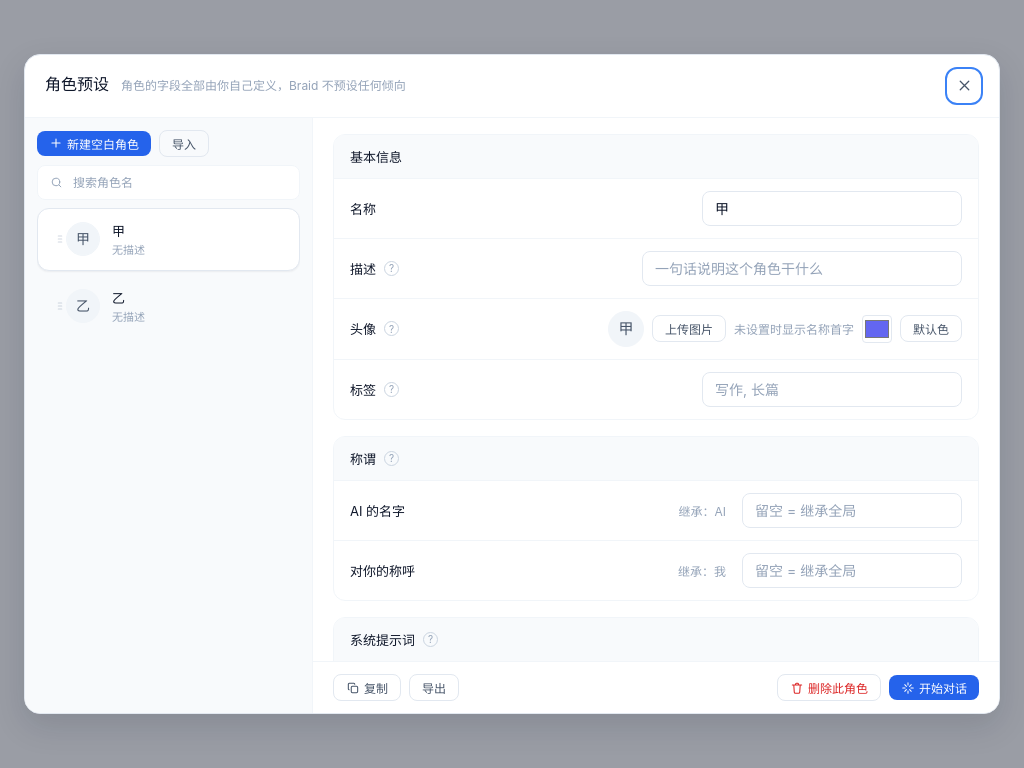
Test: 角色面板：未保存的草稿 › 切换角色之前先问一句，选择放弃才真的切
改一下名字，制造"未保存"的状态
Replace the text in the field showing "甲" with "甲（改）". click: [832, 208]
box: [702,191,962,226]
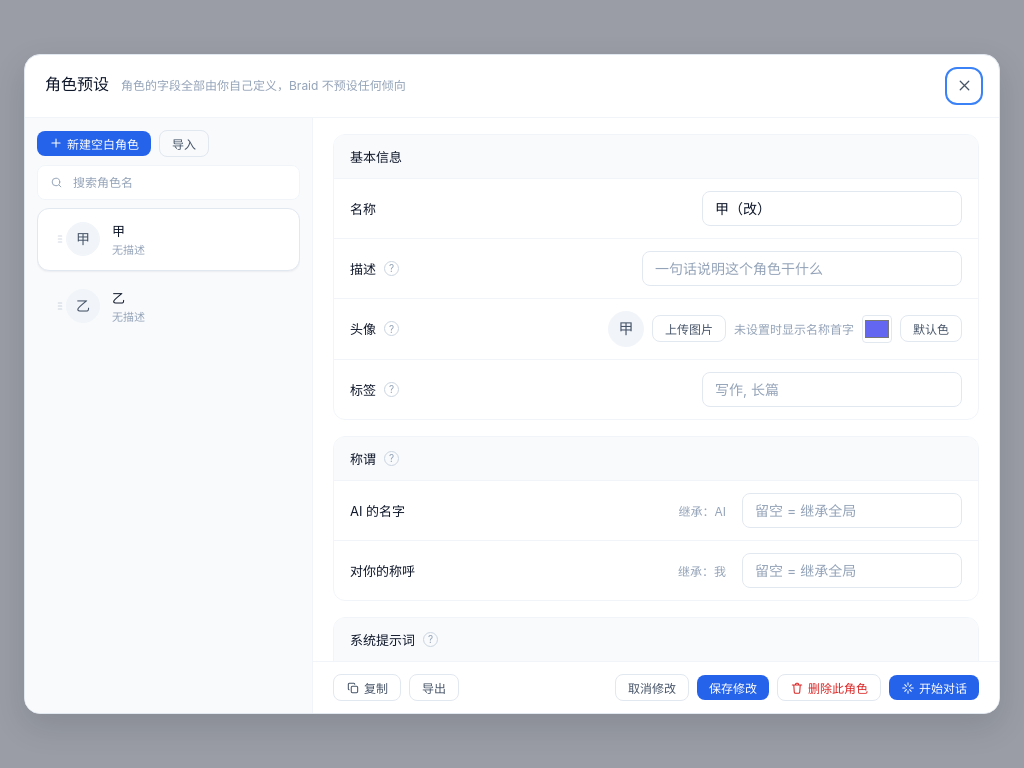
Click the button "乙 乙 无描述". click: [83, 306]
box: [37,275,300,337]
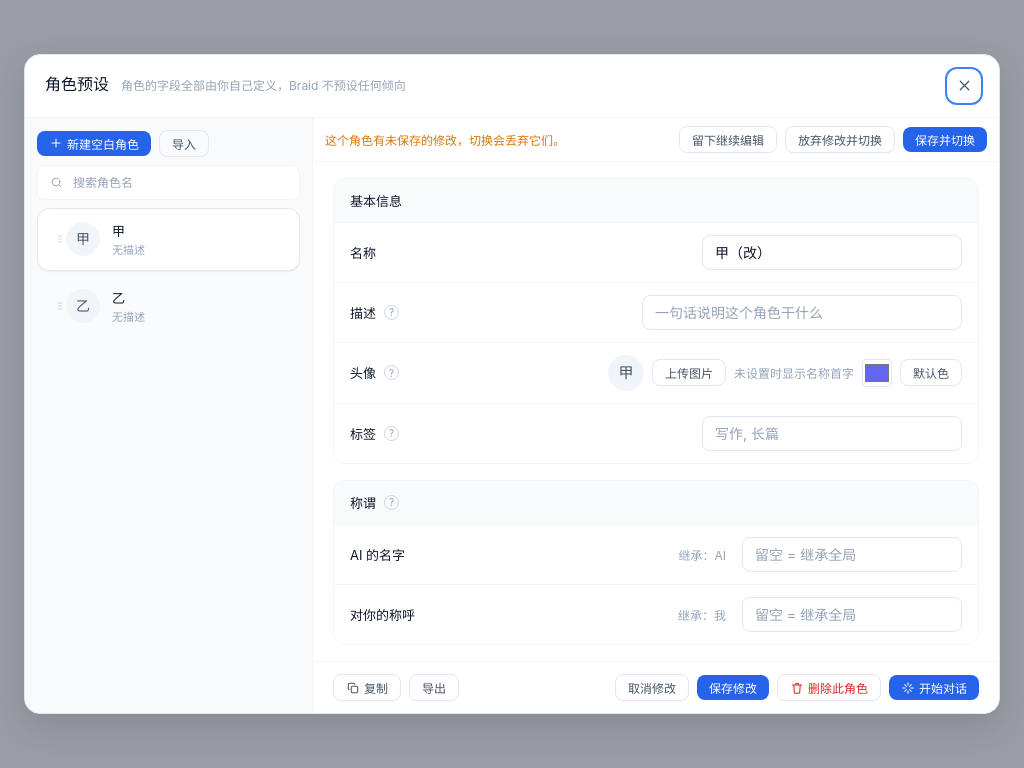
Result: the text "这个角色有未保存的修改，切换会丢弃它们。" is shown at [325,131,565,148]
明确选择"放弃修改并切换"，这才切过去
Click the button "放弃修改并切换". click: [840, 139]
box: [785,126,895,153]
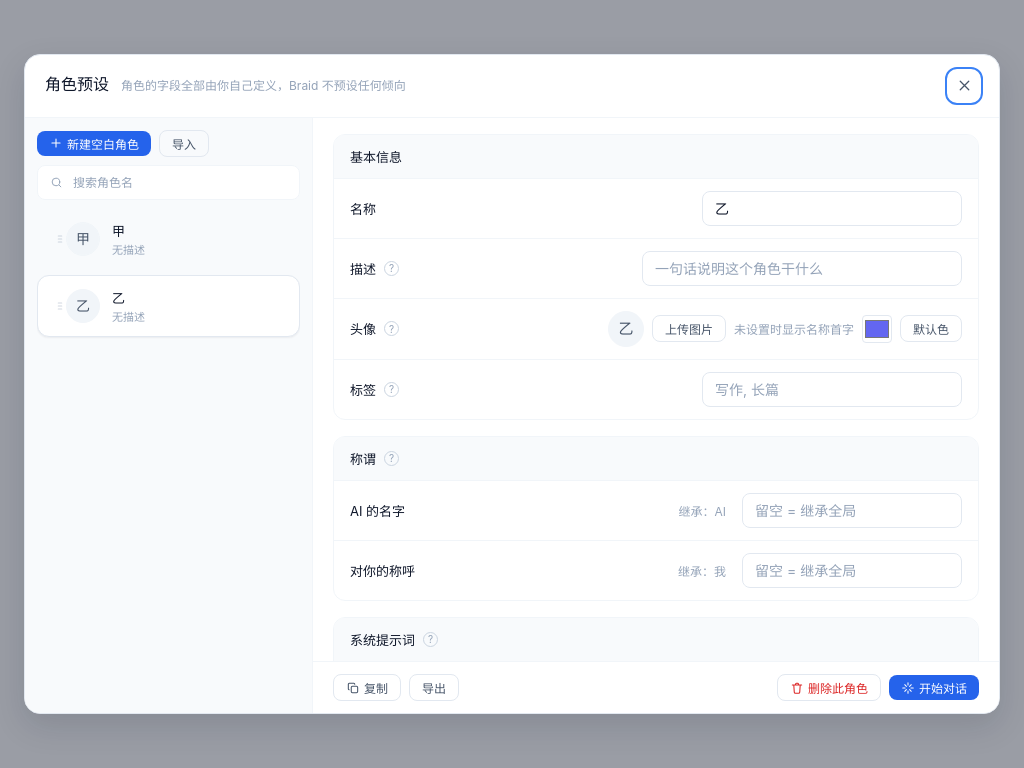
Result: the text "有未保存的修改" is gone
Result: the field showing "乙" is shown at [702,191,962,226]
